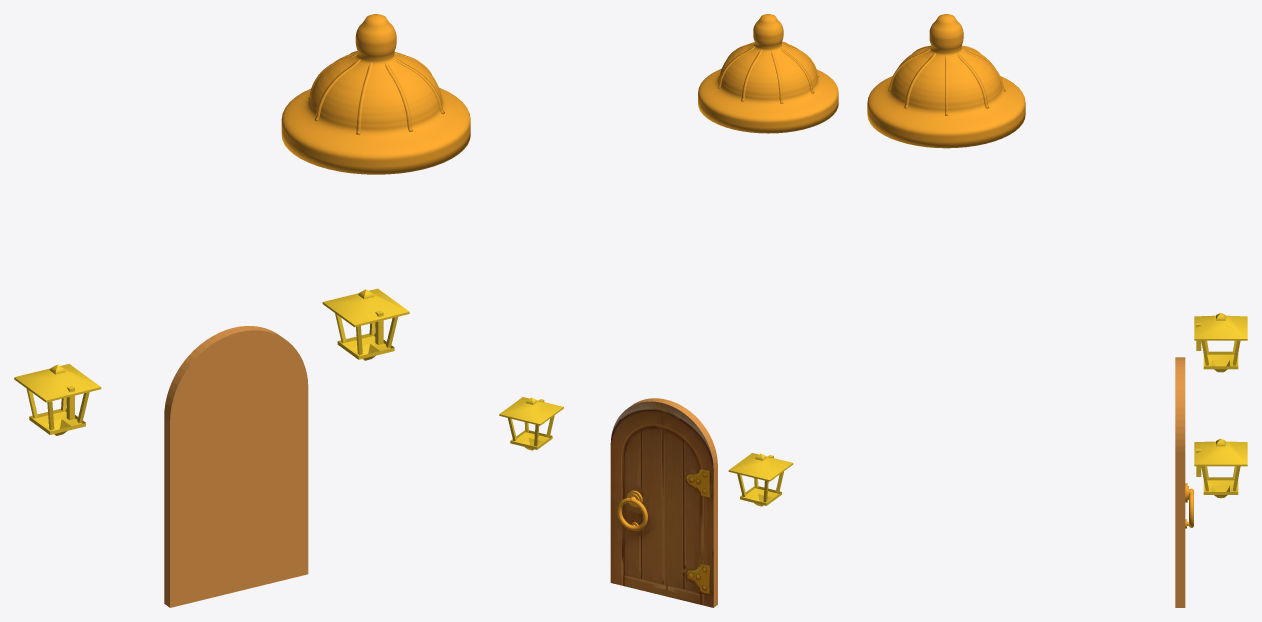
The model's file is HaloDomeHouse_01_deco.glb.
3 renders of one model, left to right at view 1: azimuth 30°, elevation 25°; view 2: azimuth 150°, elevation 25°; view 3: azimuth 270°, elevation 25°, orthographic. The views are drawn at different scales.
Visible parts, largest first — view 1: HaloDomeHouse_01_Leaf, HaloDomeHouse_01_CupolaDome, HaloDomeHouse_01_Lantern1, HaloDomeHouse_01_Lantern0, HaloDomeHouse_01_CupolaDomeRibs; view 2: HaloDomeHouse_01_Leaf, HaloDomeHouse_01_CupolaDome, HaloDomeHouse_01_Lantern0, HaloDomeHouse_01_Lantern1, HaloDomeHouse_01_CupolaDomeRibs, Orn_HaloDomeHouse_01_Knocker; view 3: HaloDomeHouse_01_CupolaDome, HaloDomeHouse_01_Leaf, HaloDomeHouse_01_Lantern0, HaloDomeHouse_01_Lantern1, HaloDomeHouse_01_CupolaDomeRibs.
Part boxes in pixels (box(x1,y1,x2,y2)): HaloDomeHouse_01_Leaf: box(164, 326, 308, 607); HaloDomeHouse_01_CupolaDome: box(281, 14, 470, 174); HaloDomeHouse_01_Lantern1: box(322, 288, 409, 360); HaloDomeHouse_01_Lantern0: box(14, 364, 101, 435); HaloDomeHouse_01_CupolaDomeRibs: box(307, 51, 444, 134); HaloDomeHouse_01_Leaf: box(610, 398, 717, 607); HaloDomeHouse_01_CupolaDome: box(698, 14, 838, 133); HaloDomeHouse_01_Lantern0: box(728, 453, 793, 506); HaloDomeHouse_01_Lantern1: box(499, 397, 563, 450); HaloDomeHouse_01_CupolaDomeRibs: box(717, 41, 819, 103); Orn_HaloDomeHouse_01_Knocker: box(617, 490, 647, 530); HaloDomeHouse_01_CupolaDome: box(867, 14, 1025, 148); HaloDomeHouse_01_Leaf: box(1175, 357, 1185, 607); HaloDomeHouse_01_Lantern0: box(1194, 313, 1247, 372); HaloDomeHouse_01_Lantern1: box(1194, 438, 1247, 498); HaloDomeHouse_01_CupolaDomeRibs: box(887, 45, 1005, 115).
Size of the model in its own units: 11.32 by 20.08 by 12.26.
Materials: 4 (1 with a texture image).
